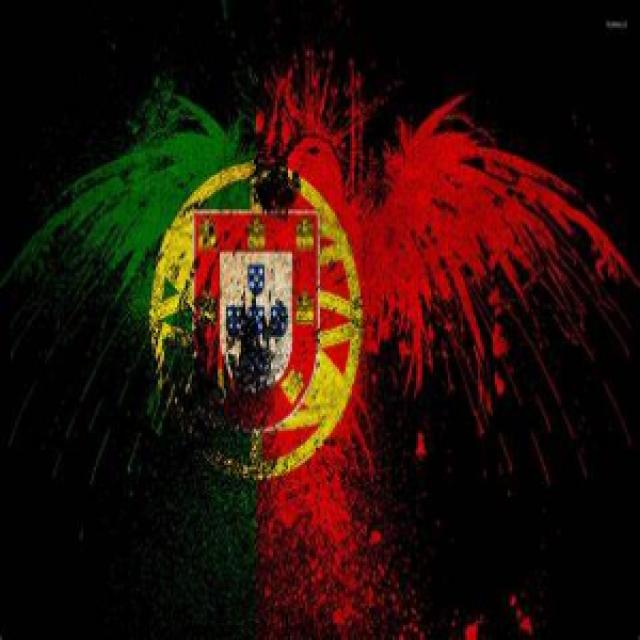portugal: (74, 76, 526, 530)
